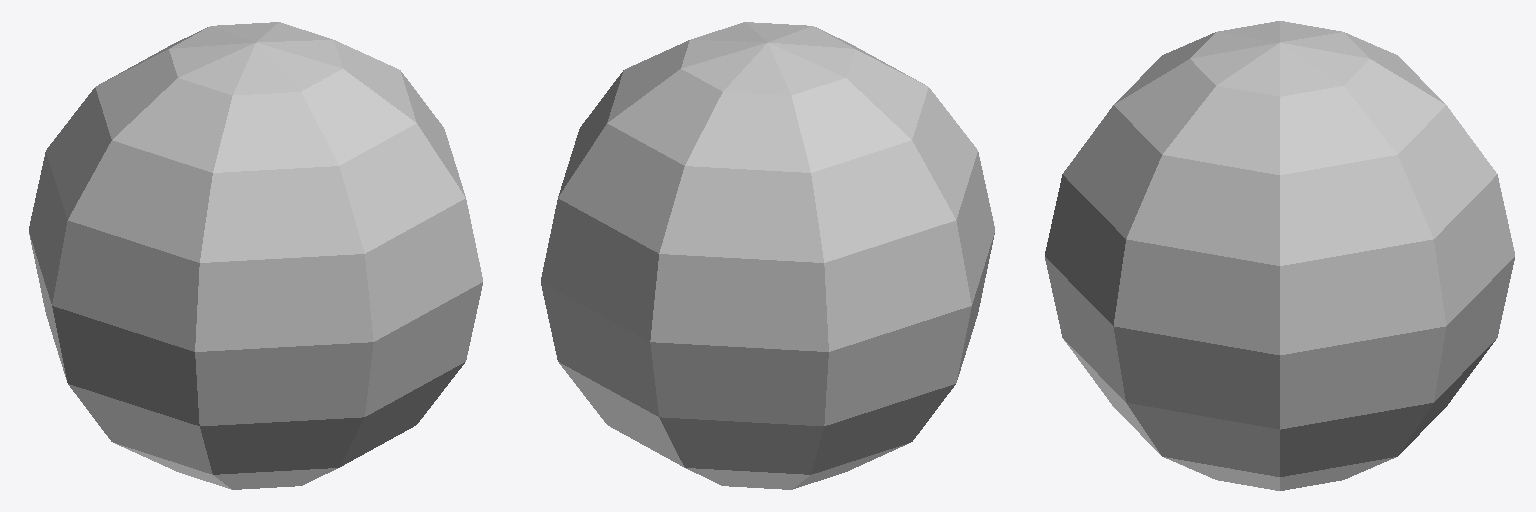
The model's file is debugPoint.obj.
3 renders of one model, left to right at view 1: azimuth 30°, elevation 25°; view 2: azimuth 150°, elevation 25°; view 3: azimuth 270°, elevation 25°, orthographic.
Parts seen in each view (by area): view 1: Sphere_Sphere.001; view 2: Sphere_Sphere.001; view 3: Sphere_Sphere.001.
Part boxes in pixels (x1,y1,x2,y2): Sphere_Sphere.001: (29, 22, 482, 489); Sphere_Sphere.001: (541, 22, 994, 489); Sphere_Sphere.001: (1045, 21, 1514, 490).
Bounding box in the file's own units: 0.1 × 0.1 × 0.1.